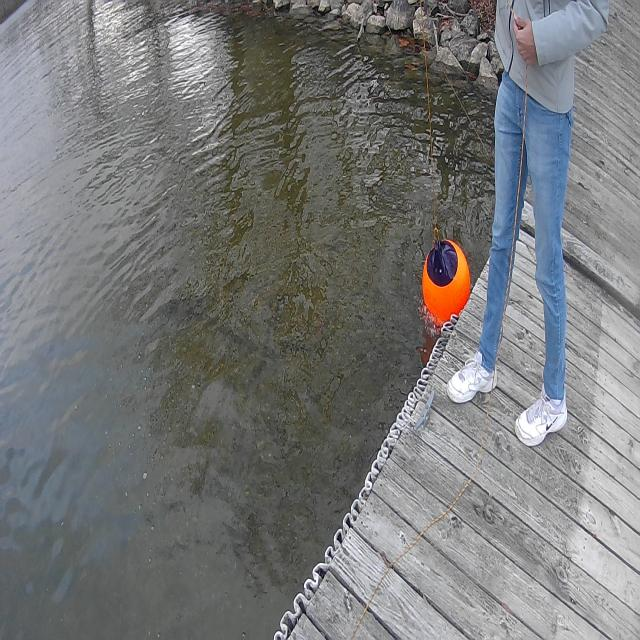Buoy: (420, 229, 476, 334)
